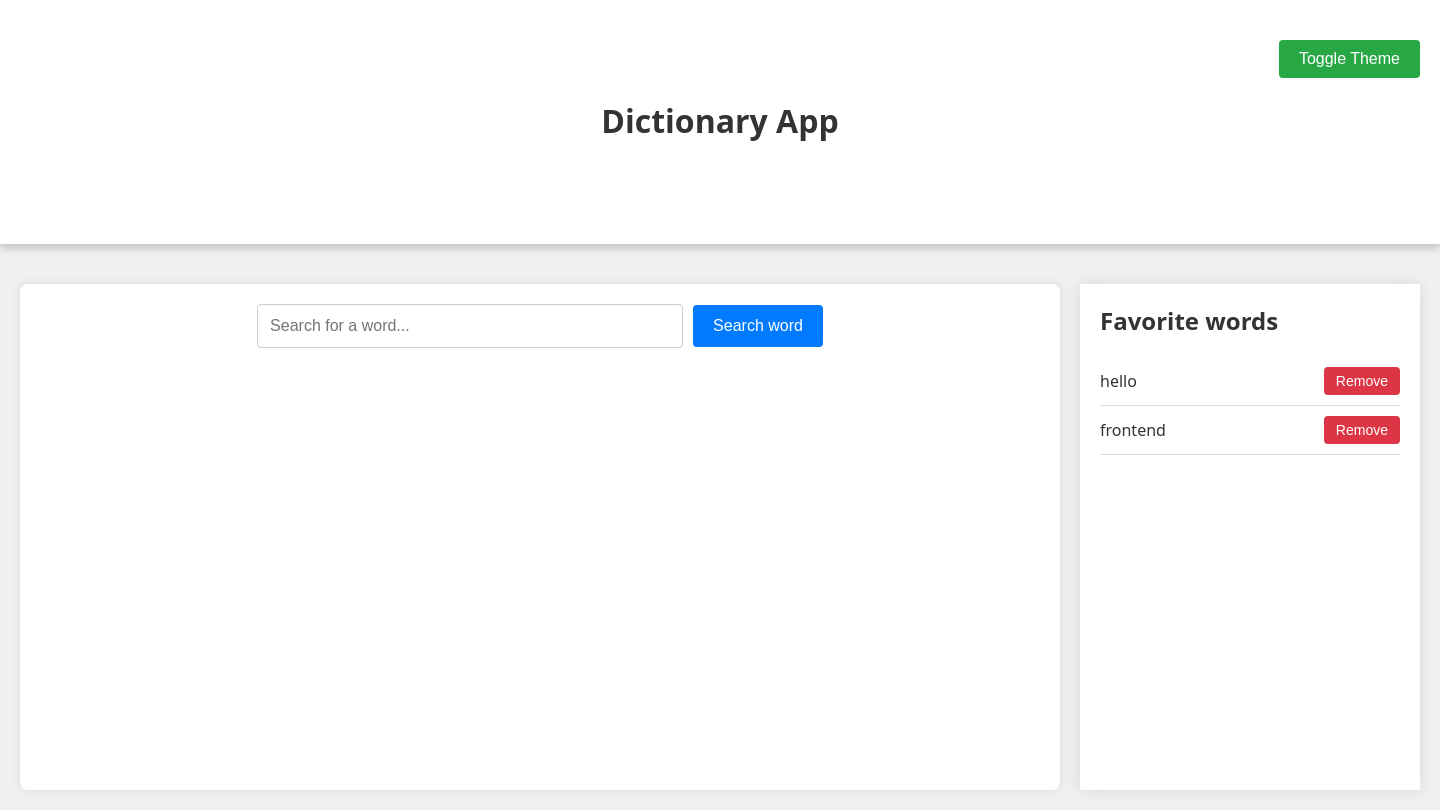
Test: App › should render result from searchbar
Type "hello" into the field with placeholder "Search for a word...". click: (470,326)
box: x1=257 y1=304 x2=683 y2=348
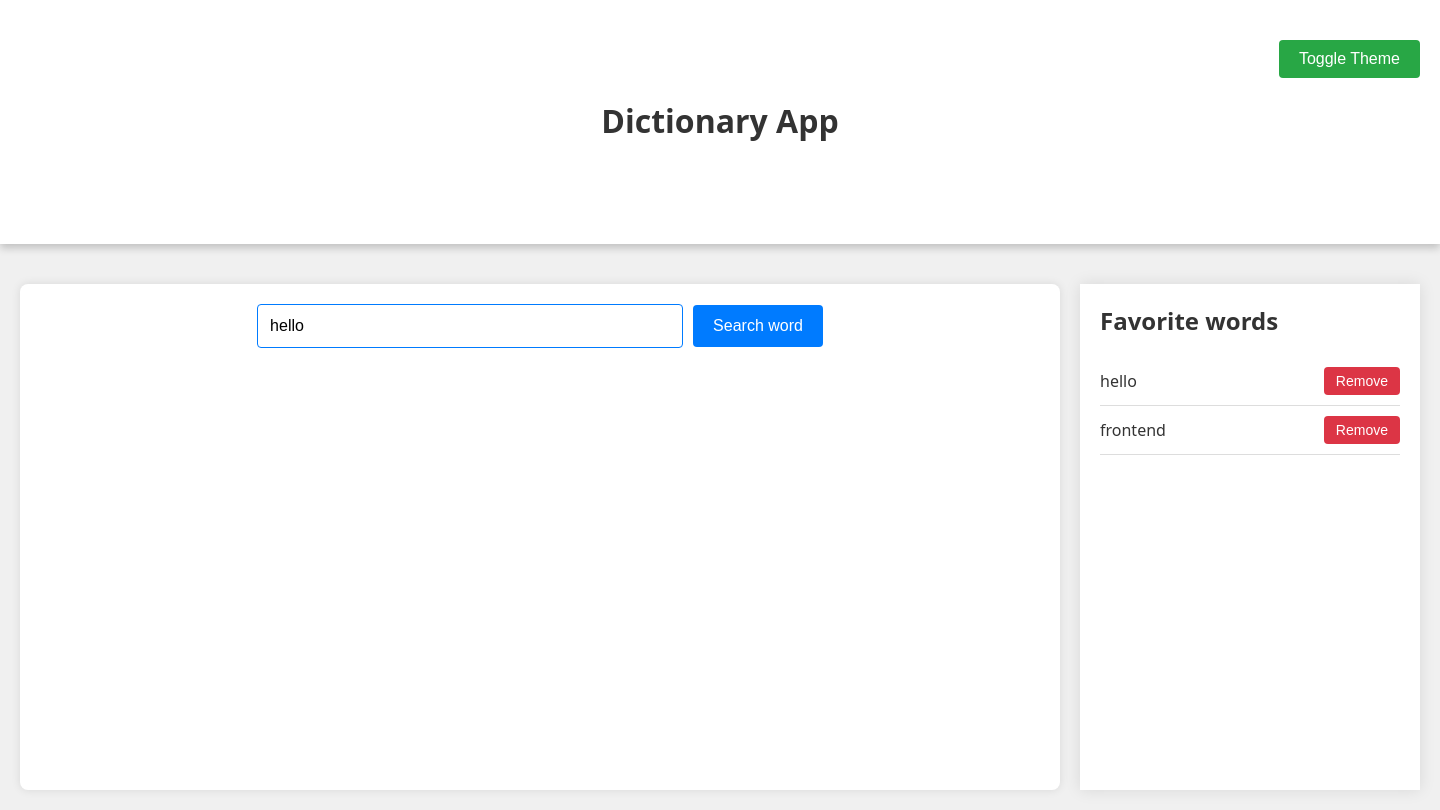
Click the button "Search word". click: (758,326)
box: x1=693 y1=305 x2=823 y2=347
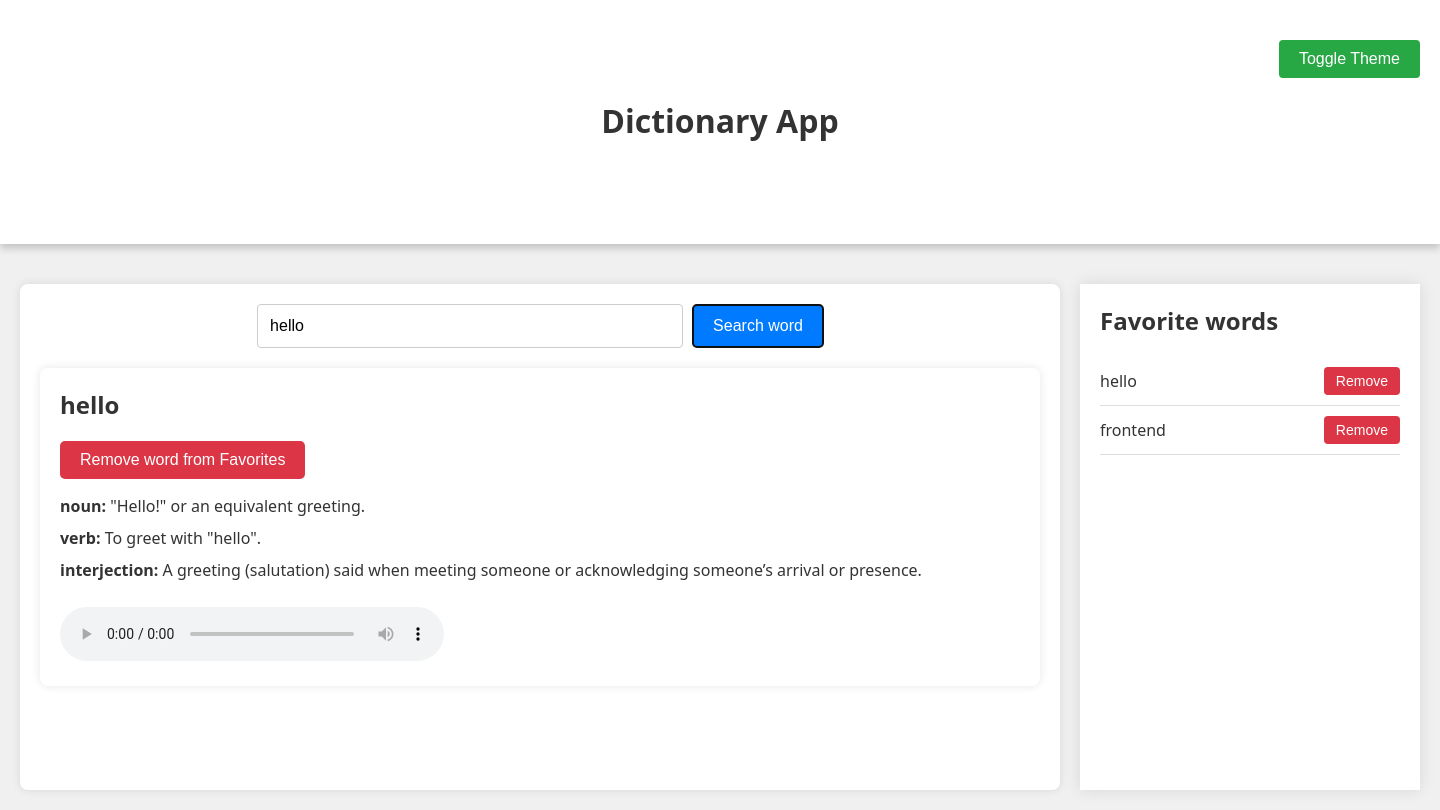
Result: the heading "hello" is shown at x1=60 y1=388 x2=120 y2=421
Result: the list item "\"Hello!\" or an equivalent greeting." is shown at x1=110 y1=495 x2=365 y2=517
Result: the list item "To greet with \"hello\"." is shown at x1=105 y1=527 x2=261 y2=549
